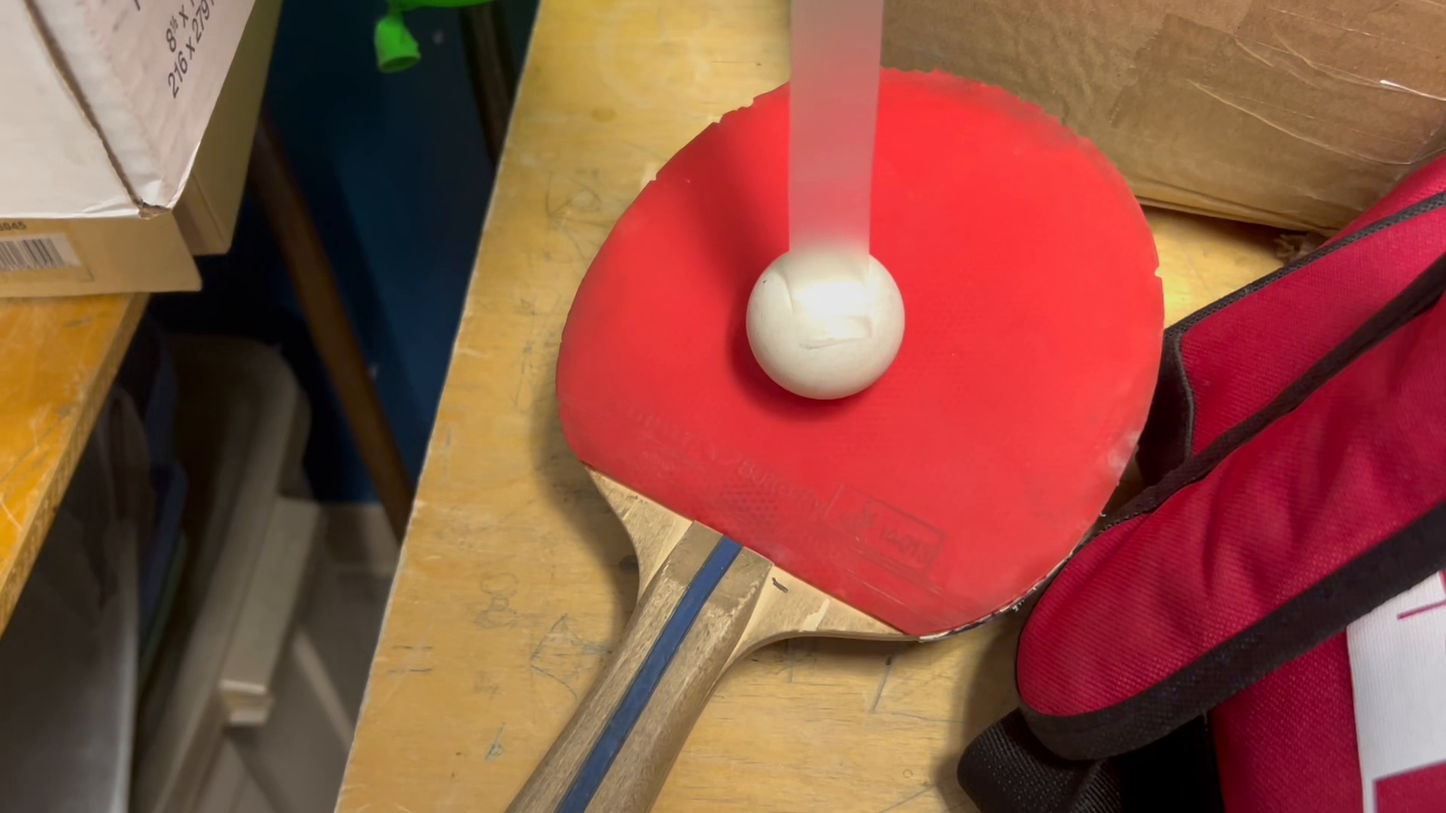Ball: (741, 254, 925, 392)
